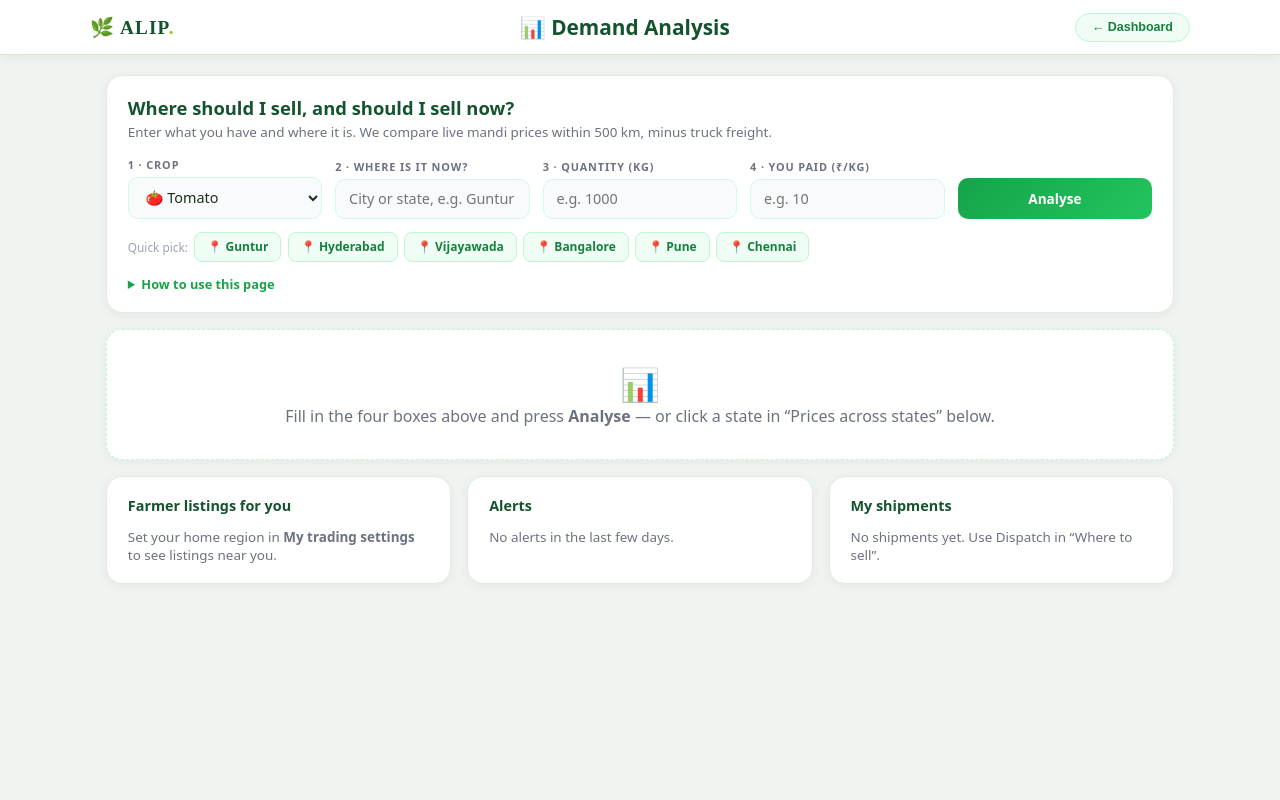
Test: insufficient signal and stale data are stated plainly
The width and height of the screenshot is (1280, 800).
Type "Guntur" into the field labelled "2 · Where is it now?".
click(432, 199); type("Guntur")  # box [335, 179, 530, 219]
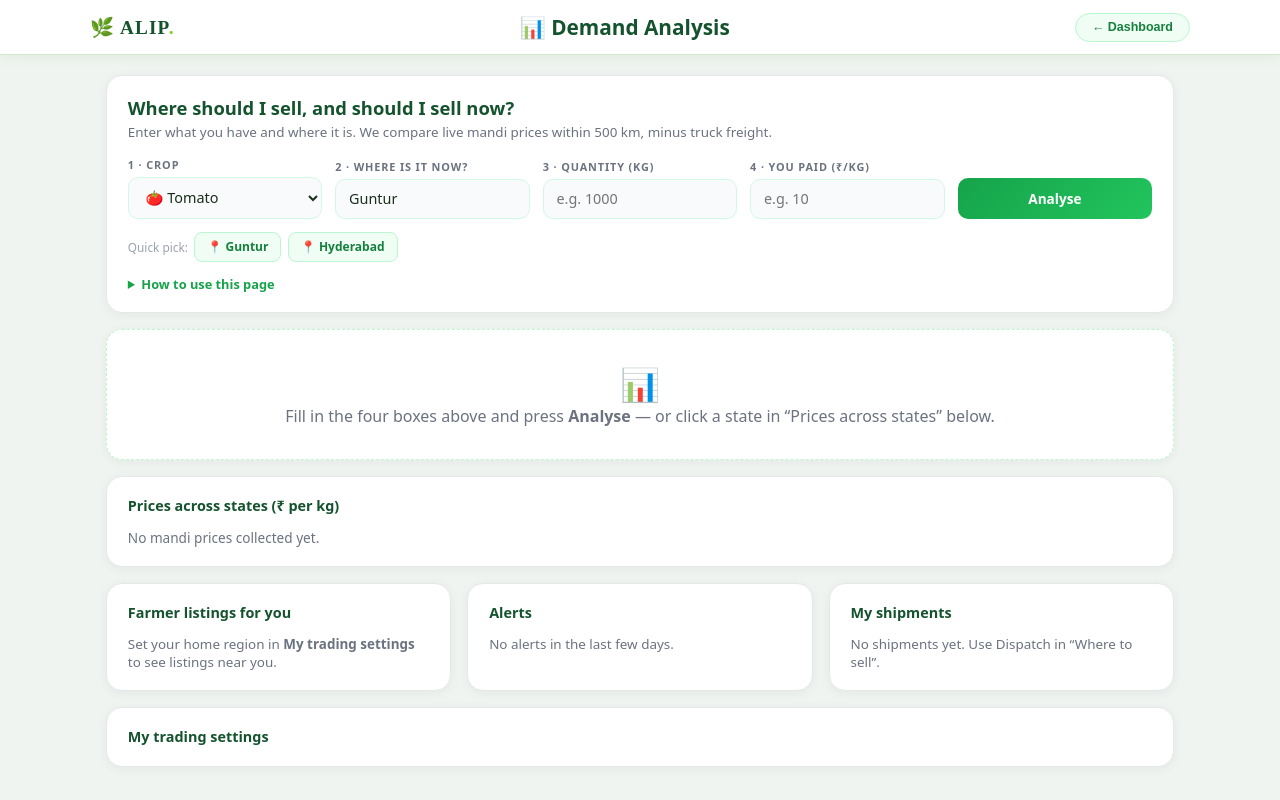
Click the button "Analyse".
click(1055, 198)  # box [958, 178, 1152, 219]
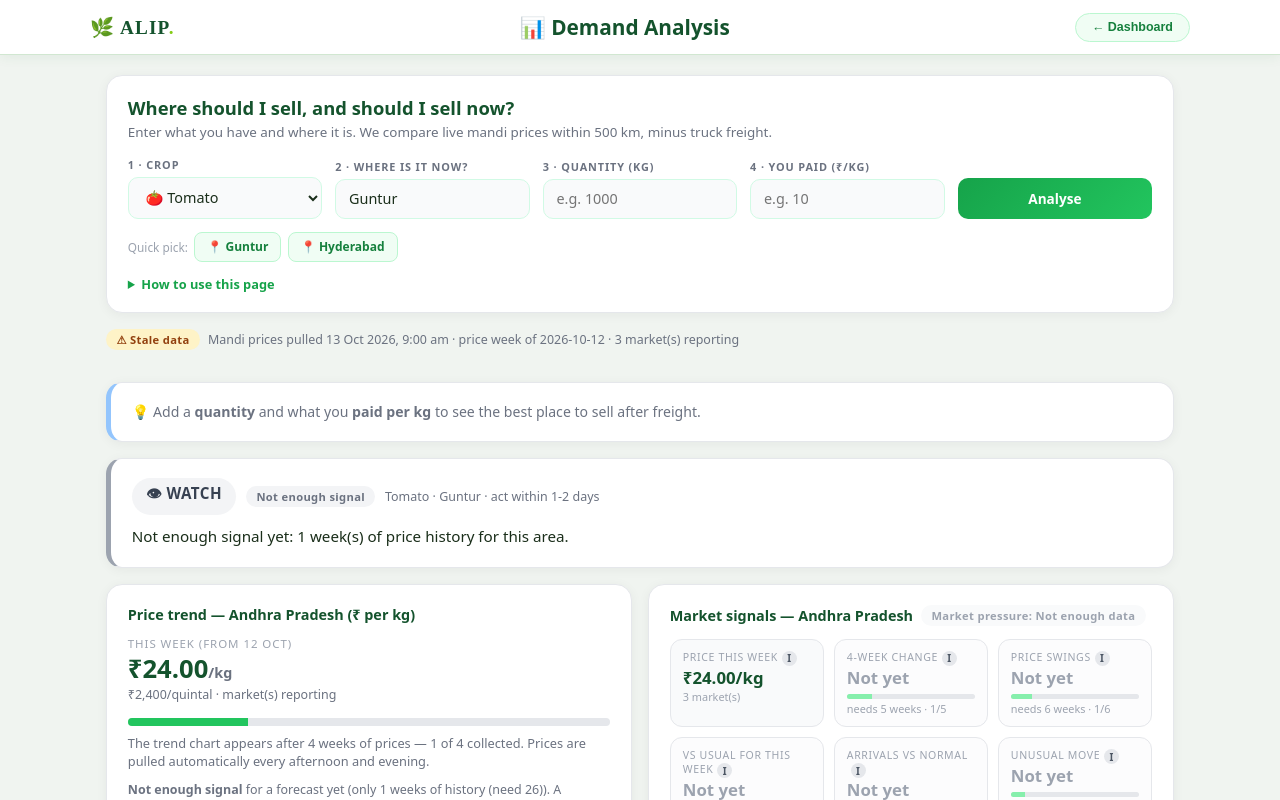
Expected: the element named "Recommended action: WATCH" is shown, [106, 458, 1174, 568]
Expected: the text "⚠ Stale data" is shown, [106, 329, 200, 350]
Expected: the text "only 1 weeks of history (need 26)" is shown, [345, 781, 547, 798]
